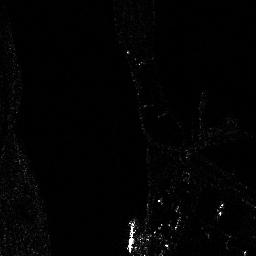ship: (125, 219, 136, 253)
